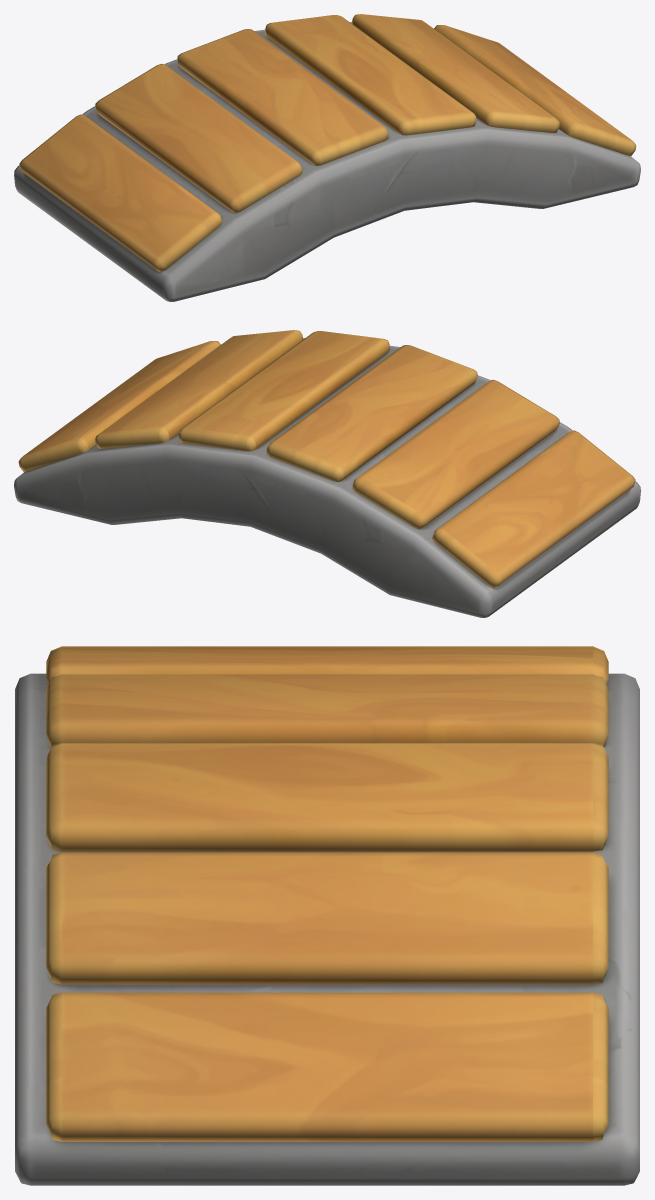
The model's file is Bridge_01.fbx.
3 renders of one model, top to bottom at view 1: azimuth 30°, elevation 25°; view 2: azimuth 150°, elevation 25°; view 3: azimuth 270°, elevation 25°, orthographic. The views are drawn at different scales.
Visible parts, largest first — view 1: Bridge_01; view 2: Bridge_01; view 3: Bridge_01.
Boxes of the visible parts, <box> form: Bridge_01: <box>14,14,640,301</box>; Bridge_01: <box>14,330,640,617</box>; Bridge_01: <box>15,646,639,1185</box>.
Bounding box in the file's own units: 3.56 × 0.826 × 2.
